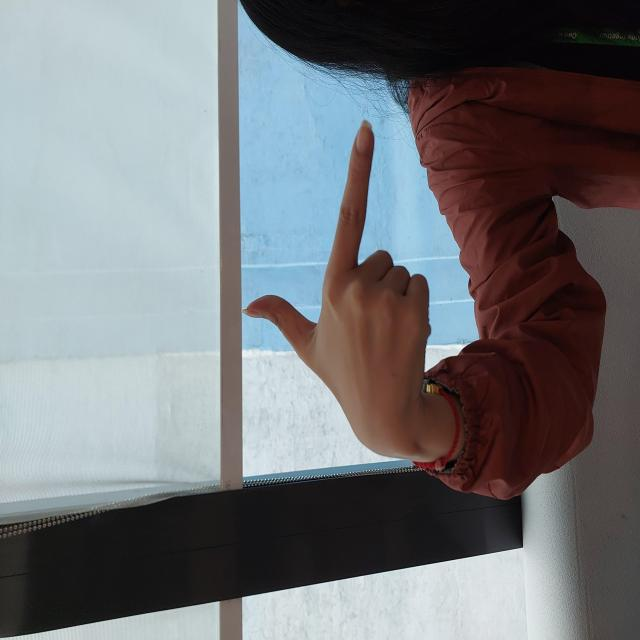G: (177, 243, 523, 432)
